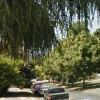Car: (29, 75, 71, 100)
